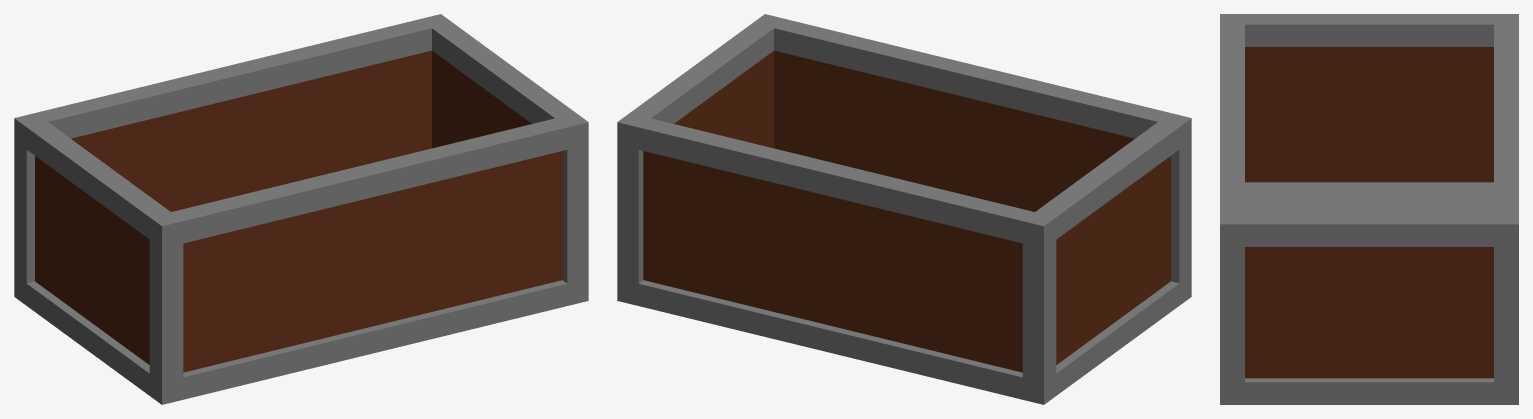
Rendered from chest.fbx.
3 renders of one model, left to right at view 1: azimuth 30°, elevation 25°; view 2: azimuth 150°, elevation 25°; view 3: azimuth 270°, elevation 25°, orthographic.
Parts seen in each view (by area): view 1: TreasureChest.001; view 2: TreasureChest.001; view 3: TreasureChest.001.
Boxes of the visible parts, <box> form: TreasureChest.001: <box>14,14,588,404</box>; TreasureChest.001: <box>617,14,1191,404</box>; TreasureChest.001: <box>1220,14,1518,404</box>.
Size of the model in its own units: 100 by 40 by 60.
